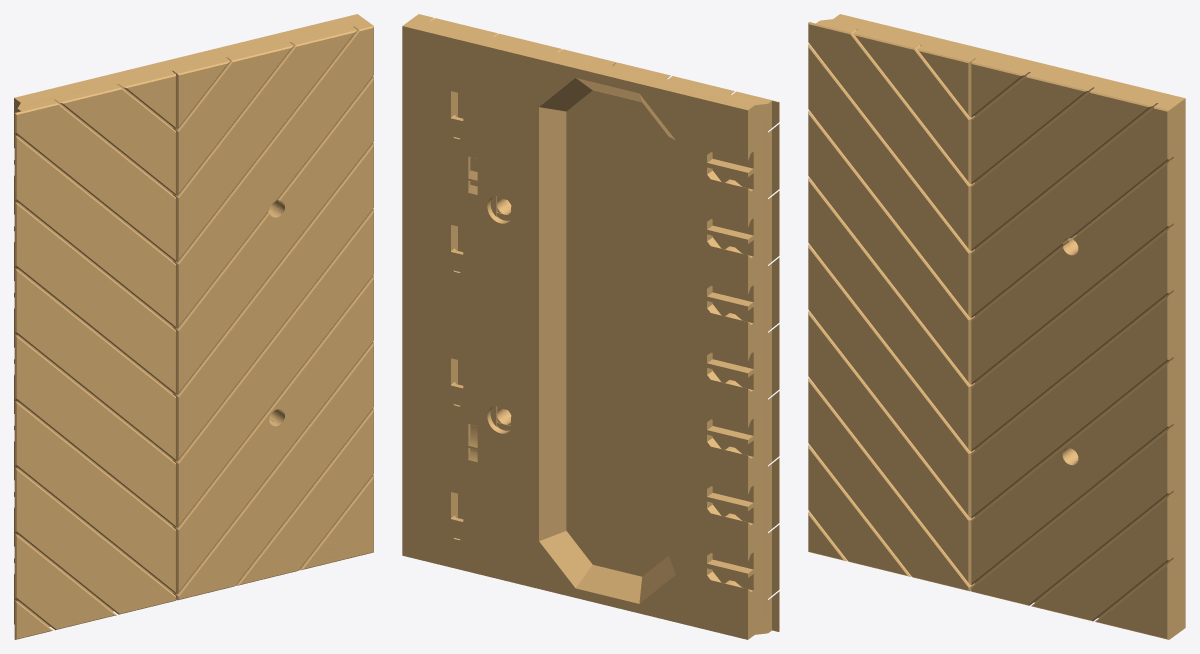
File: Door_Chevron_1W-2H.lib.glb
The picture shows the model from 3 angles, left to right: view 1: azimuth 30°, elevation 25°; view 2: azimuth 150°, elevation 25°; view 3: azimuth 330°, elevation 25°; orthographic projection.
Visible parts, largest first — view 1: Door_Chevron_1W-2H; view 2: Door_Chevron_1W-2H; view 3: Door_Chevron_1W-2H.
Part boxes in pixels (<box>): Door_Chevron_1W-2H: <box>14,14,373,639</box>; Door_Chevron_1W-2H: <box>402,14,779,639</box>; Door_Chevron_1W-2H: <box>808,14,1185,639</box>.
Bounding box in the file's own units: 79.15 × 111 × 6.5.
